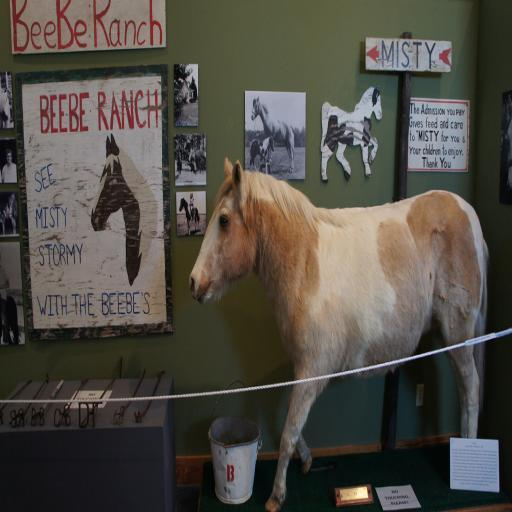horse: (186, 154, 491, 512), (92, 132, 160, 288), (320, 84, 383, 182), (252, 93, 295, 171), (246, 135, 276, 169), (178, 194, 200, 234), (0, 192, 18, 234)
